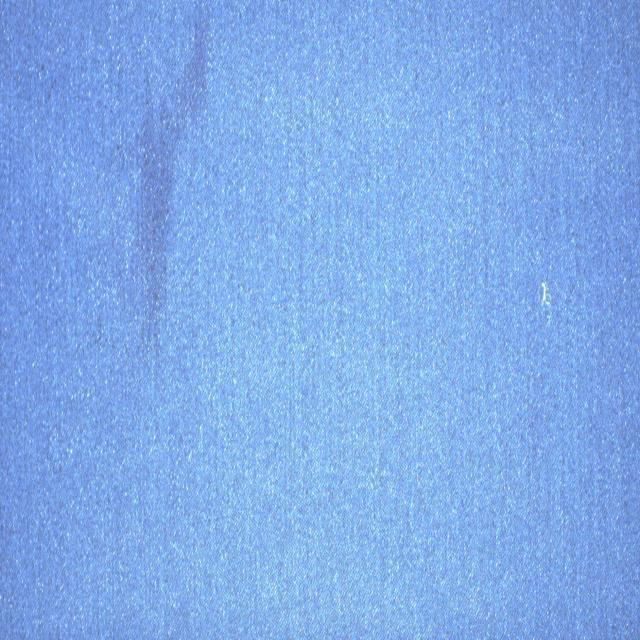Knot: (541, 282, 553, 326)
Stain: (138, 13, 209, 324)
